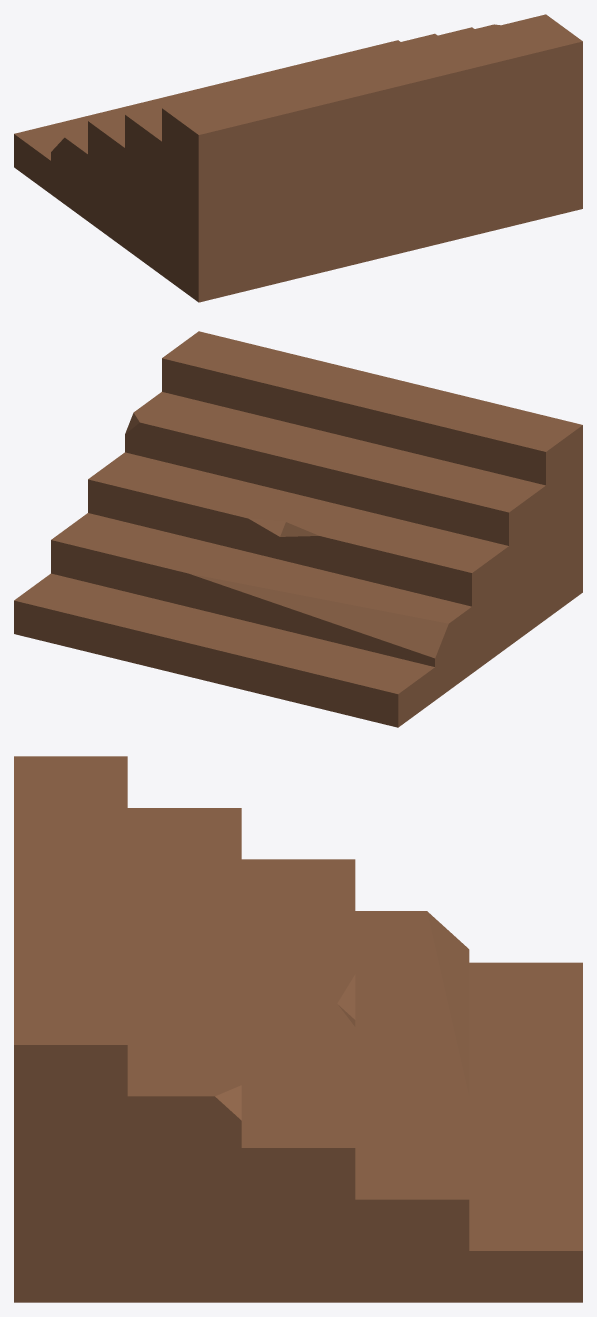
Rendered from Monument_010.FBX.
3 views of the same model, one above another, from view 1: azimuth 30°, elevation 25°; view 2: azimuth 150°, elevation 25°; view 3: azimuth 270°, elevation 25° (orthographic). The views are drawn at different scales.
Parts seen in each view (by area): view 1: Monument_010; view 2: Monument_010; view 3: Monument_010.
Part boxes in pixels (left/top/right/bottom): Monument_010: left=14, top=14, right=582, bottom=302; Monument_010: left=14, top=331, right=582, bottom=727; Monument_010: left=14, top=756, right=582, bottom=1302.
Size of the model in its own units: 78.74 by 32.81 by 65.62.
